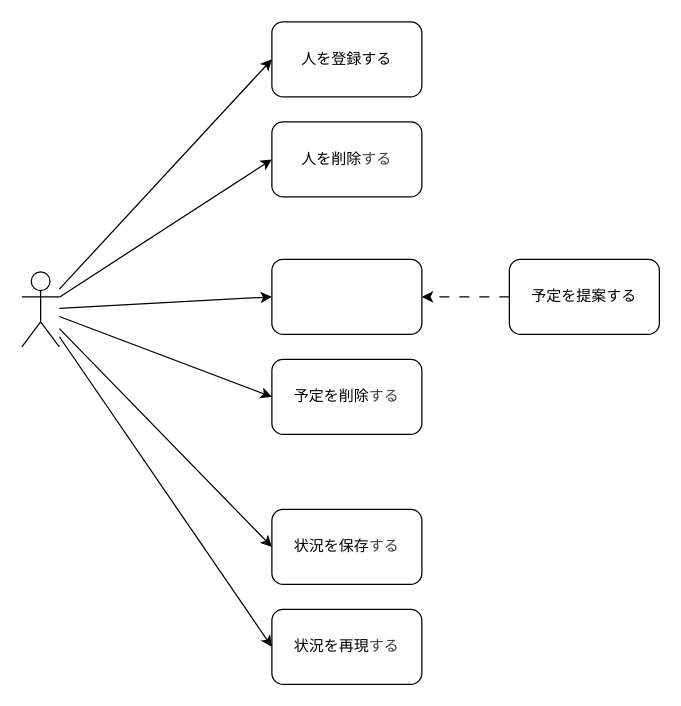
This 681x706 diagram has some shape labels left out. Here are the shapes that lost their labels. From the top down, the centre of each, then its label:
At [40,309]: "Actor".
At [346,296]: "予定を登録する".
